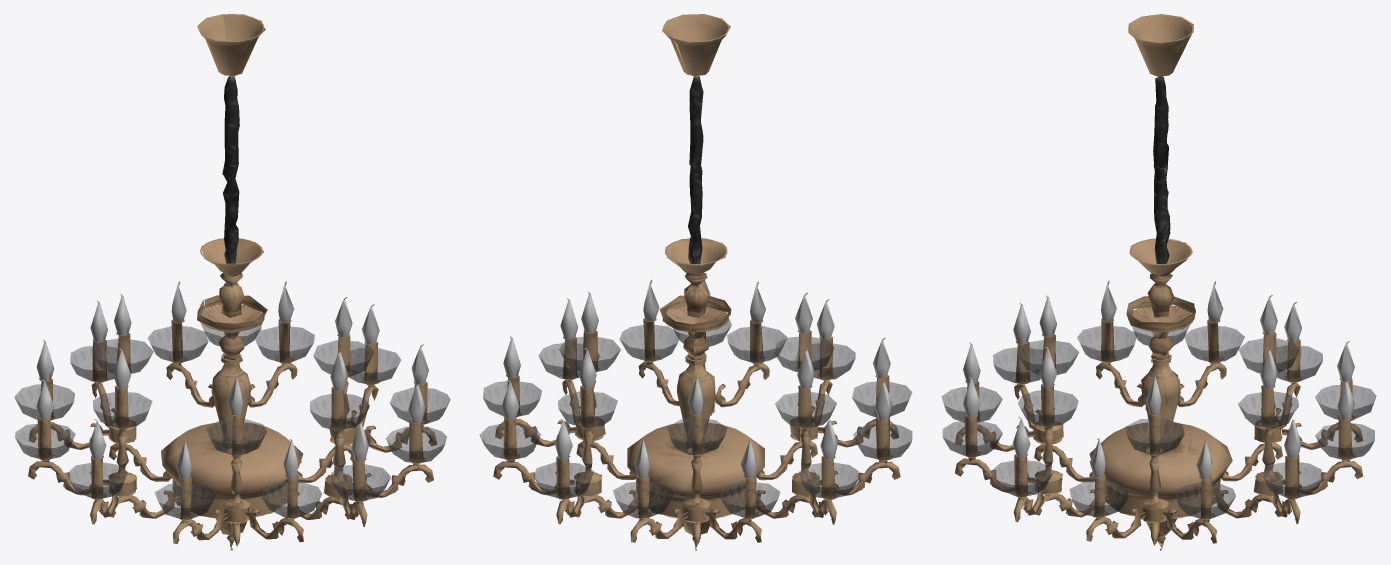
Rendered from Chandelier_03.glb.
The picture shows the model from 3 angles, left to right: view 1: azimuth 30°, elevation 25°; view 2: azimuth 150°, elevation 25°; view 3: azimuth 270°, elevation 25°; orthographic projection.
Parts seen in each view (by area): view 1: Chandelier_03; view 2: Chandelier_03; view 3: Chandelier_03.
Boxes of the visible parts, x1,y1,x2,y2 form: Chandelier_03: (14,14,450,550); Chandelier_03: (479,14,912,550); Chandelier_03: (941,14,1376,550).
Bounding box in the file's own units: 0.7829 × 1.04 × 0.7863.
2 materials, 2 textured.
